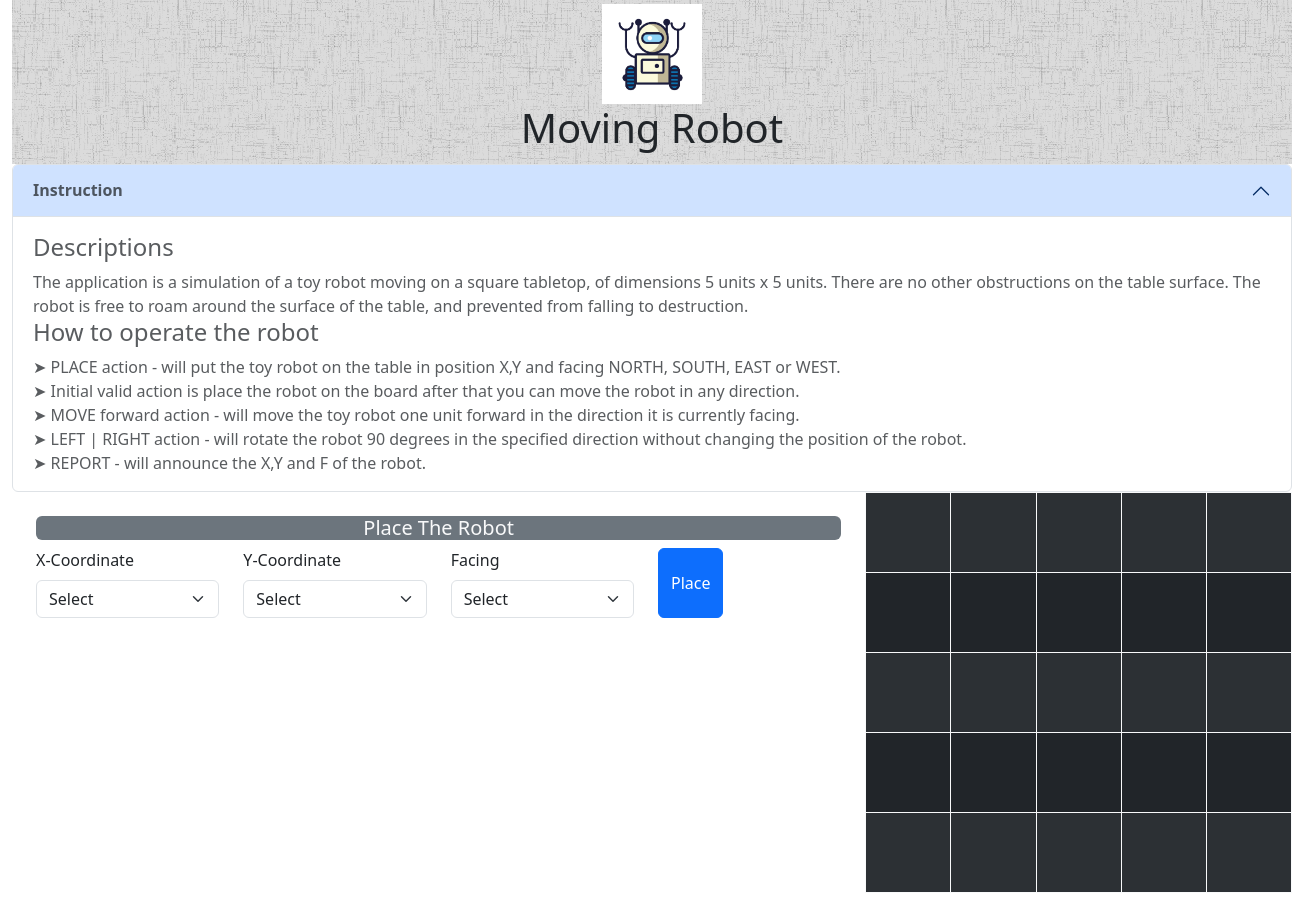
Test: match report data with robot position on click of Place button
Select "4" in the dropdown with test id "xCoord" at (128, 599), box top-left (36, 580), bottom-right (219, 618)
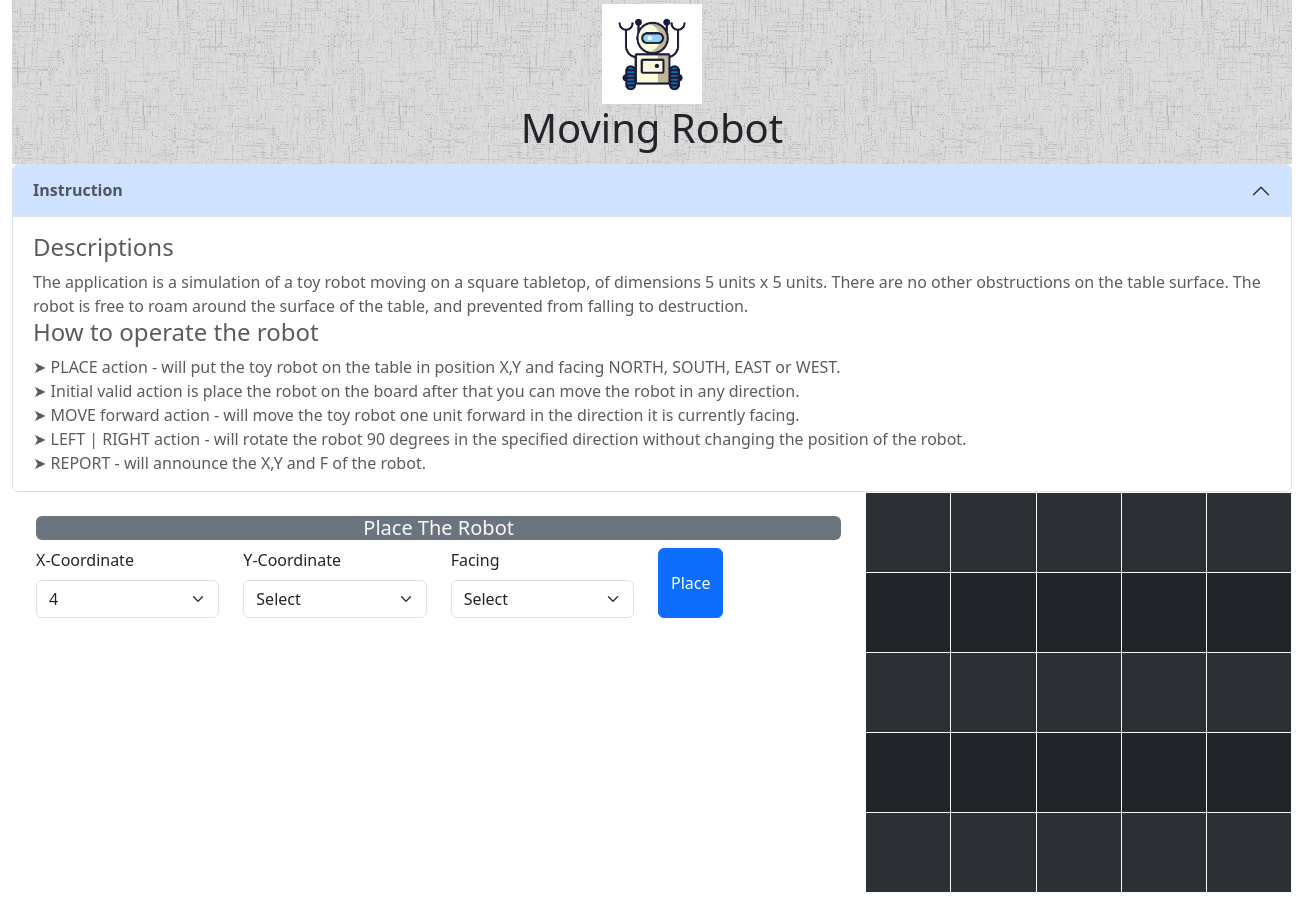
Select "3" in the dropdown with test id "yCoord" at (335, 599), box top-left (243, 580), bottom-right (427, 618)
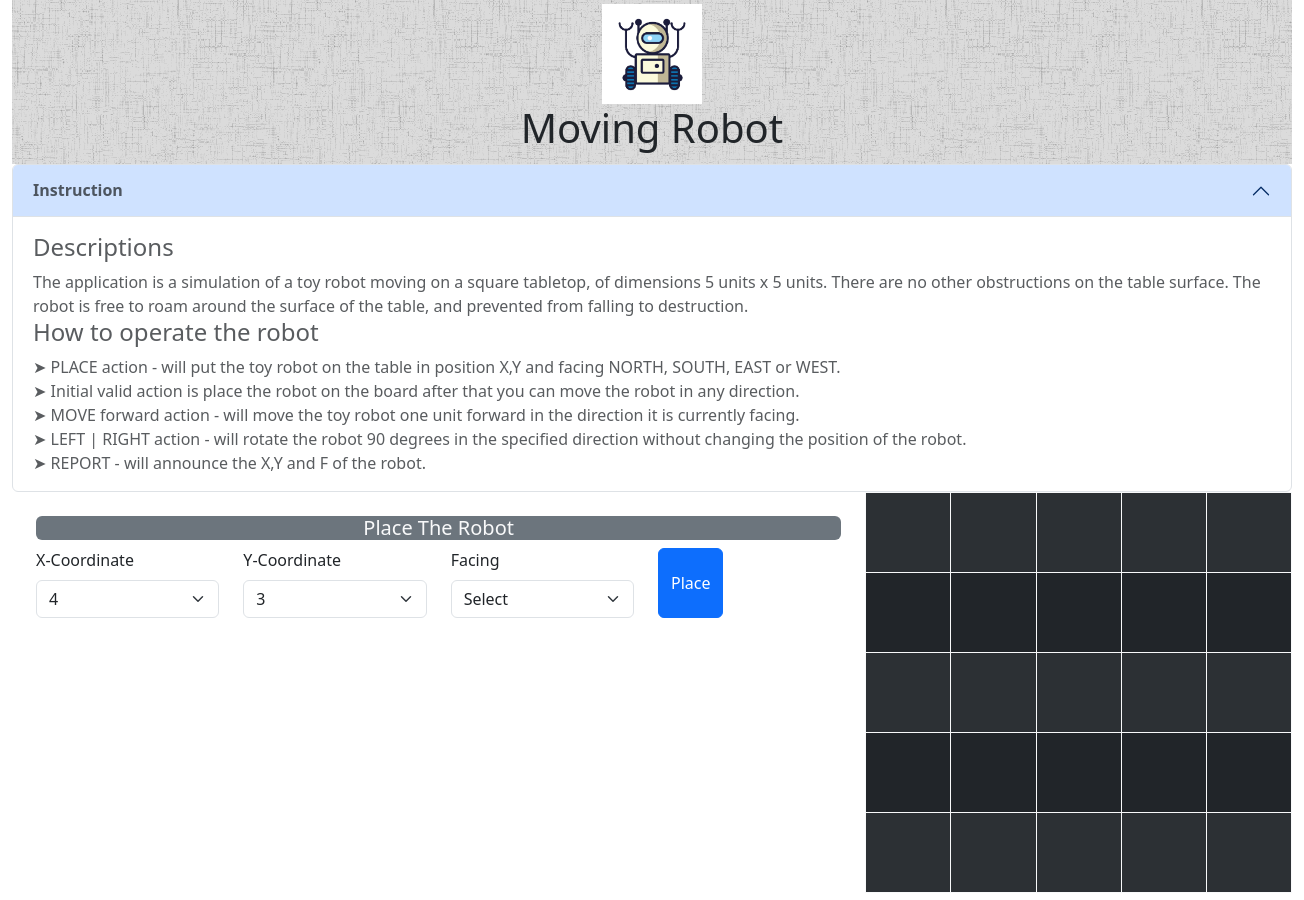
Select "WEST" in the dropdown with test id "facing" at (542, 599), box top-left (451, 580), bottom-right (634, 618)
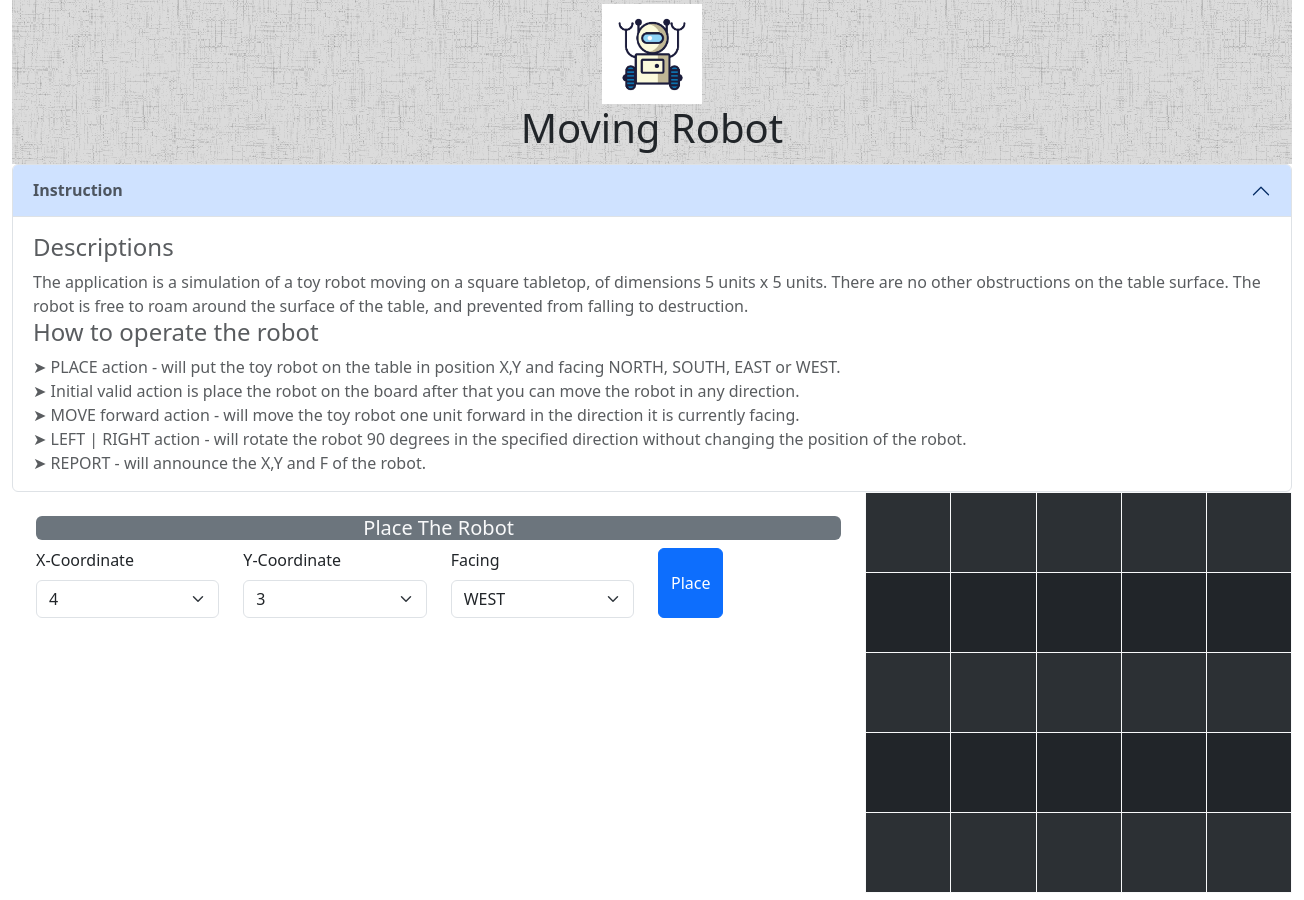
Click the button "Place".
click(691, 583)  # box top-left (658, 548), bottom-right (724, 618)
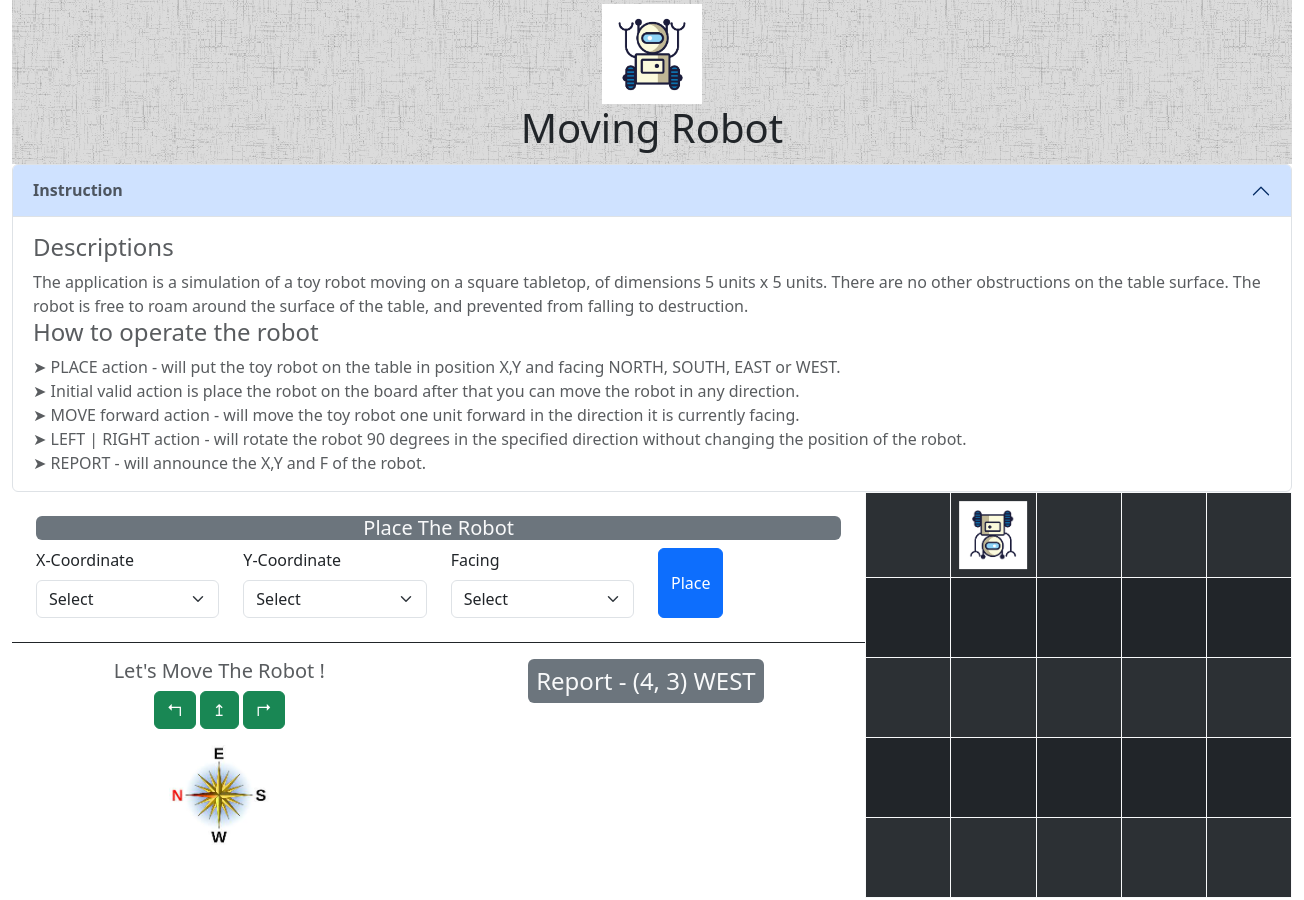
Result: the picture with test id "(4,3)WEST" is shown at top-left (960, 501), bottom-right (1028, 569)
Result: the heading "Report - (4, 3) WEST" is shown at top-left (528, 659), bottom-right (764, 703)
